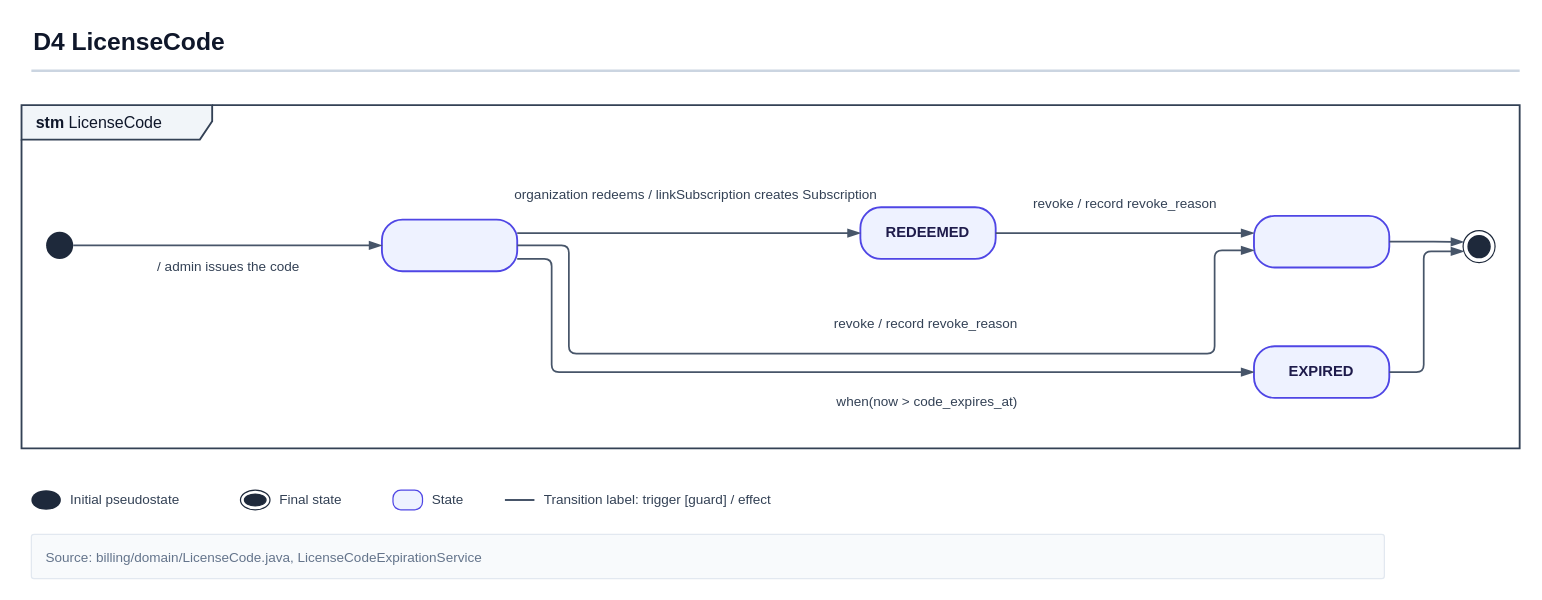
Image size: 1542x600. Some labels were removed from this diagram. Here are the shapes that lost their labels. From the top down, the centre of each, then its label:
At [449,245]: "ISSUED".
At [1321,241]: "REVOKED".
